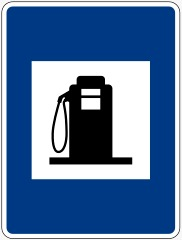fuel-station: (31, 60, 150, 178)
